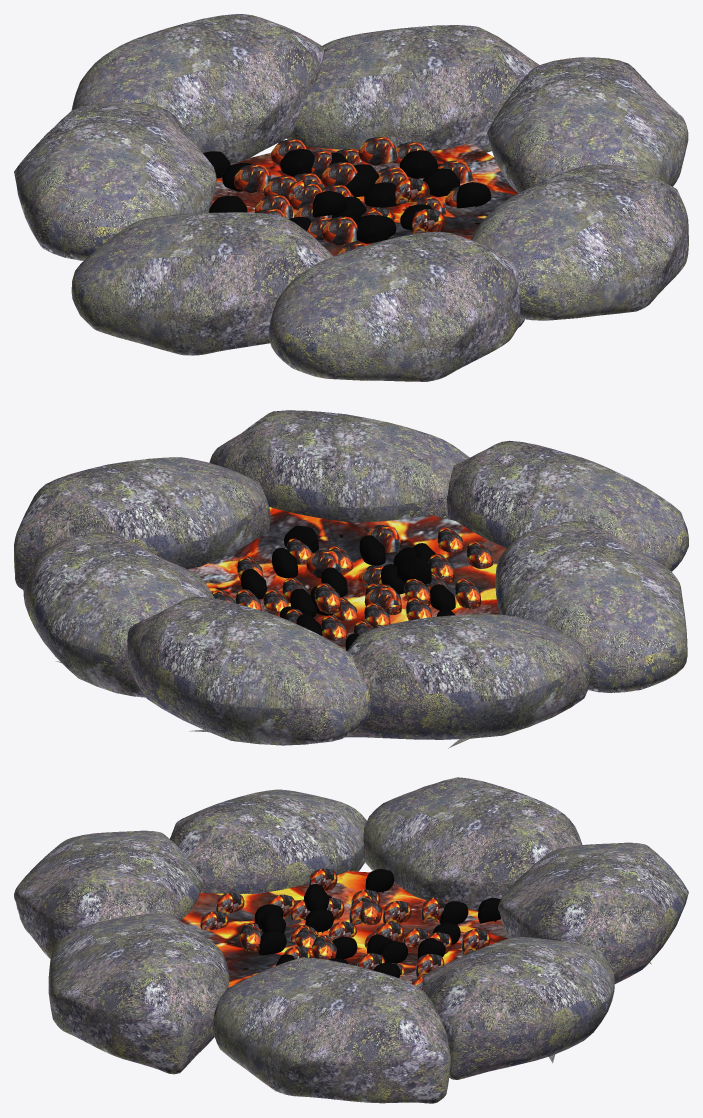
The model's file is fogata.gltf.
3 renders of one model, top to bottom at view 1: azimuth 30°, elevation 25°; view 2: azimuth 150°, elevation 25°; view 3: azimuth 270°, elevation 25°, orthographic. The views are drawn at different scales.
Visible parts, largest first — view 1: stone_1, stone_1.001, stone_1.006, stone_1.004, stone_1.003, stone_1.002, stone_1.007, Plano, stone_1.033, stone_1.015, stone_1.049, stone_1.038 (+9 smaller); view 2: stone_1.003, stone_1.002, stone_1.001, stone_1.006, stone_1.007, stone_1, stone_1.004, Plano, stone_1.058, stone_1.056, stone_1.035, stone_1.042 (+12 smaller); view 3: stone_1.007, stone_1.006, stone_1.004, stone_1.002, stone_1.003, stone_1.001, stone_1, Plano, stone_1.008, stone_1.047, stone_1.039, stone_1.018 (+9 smaller).
Boxes of the visible parts, <box> form: stone_1: <box>268,231,524,381</box>; stone_1.001: <box>71,212,333,355</box>; stone_1.006: <box>470,164,688,320</box>; stone_1.004: <box>287,25,539,152</box>; stone_1.003: <box>71,14,323,163</box>; stone_1.002: <box>14,101,216,260</box>; stone_1.007: <box>487,57,688,193</box>; Plano: <box>209,143,517,255</box>; stone_1.033: <box>358,137,396,165</box>; stone_1.015: <box>322,216,358,245</box>; stone_1.049: <box>234,164,271,193</box>; stone_1.038: <box>399,150,437,178</box>; stone_1.003: <box>127,596,370,745</box>; stone_1.002: <box>346,614,590,748</box>; stone_1.001: <box>495,521,687,692</box>; stone_1.006: <box>209,410,469,522</box>; stone_1.007: <box>14,457,270,589</box>; stone_1: <box>446,440,688,571</box>; stone_1.004: <box>23,532,214,697</box>; Plano: <box>188,507,506,650</box>; stone_1.058: <box>397,556,431,583</box>; stone_1.056: <box>306,550,341,578</box>; stone_1.035: <box>314,583,340,613</box>; stone_1.042: <box>455,578,481,608</box>; stone_1.007: <box>212,957,450,1103</box>; stone_1.006: <box>48,913,229,1074</box>; stone_1.004: <box>422,937,614,1079</box>; stone_1.002: <box>363,777,582,910</box>; stone_1.003: <box>498,842,688,983</box>; stone_1.001: <box>170,789,366,893</box>; stone_1: <box>14,830,203,958</box>; Plano: <box>180,871,507,987</box>; stone_1.008: <box>258,931,286,955</box>; stone_1.047: <box>461,929,490,954</box>; stone_1.039: <box>365,869,394,893</box>; stone_1.018: <box>382,901,411,924</box>.
Bounding box in the file's own units: 2.99 × 0.5606 × 3.02.
11 materials, 9 textured.
